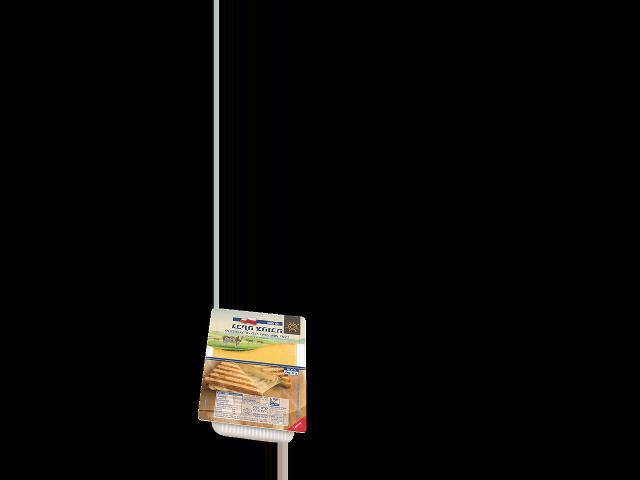cheese: (200, 309, 301, 443)
